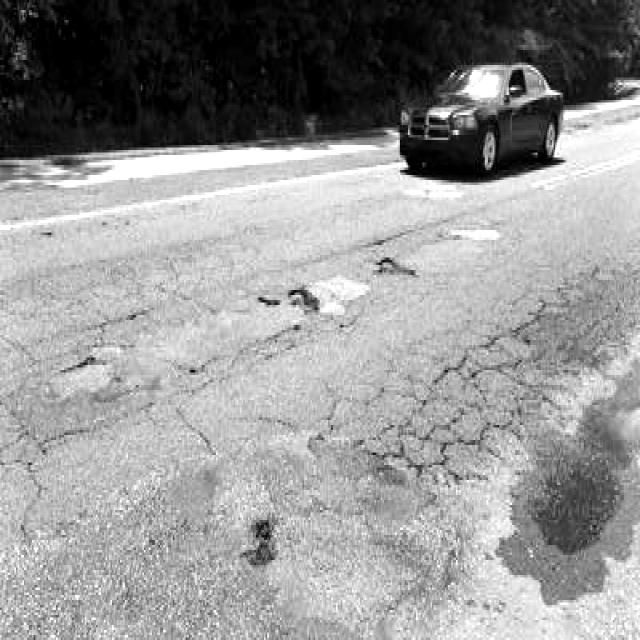pathole: (258, 238, 436, 345), (44, 339, 127, 414)
